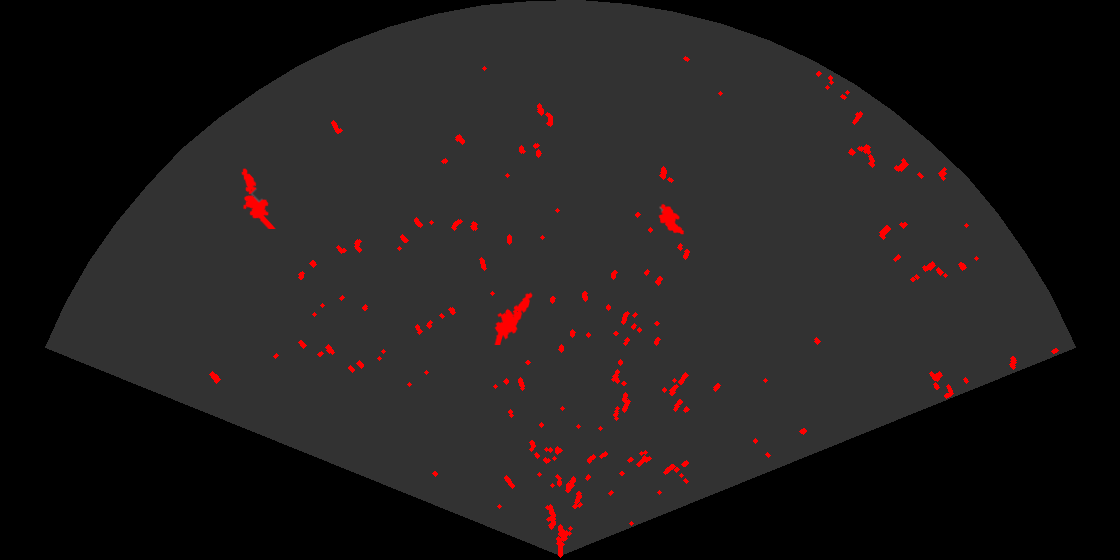AUV: (657, 202, 686, 236)
frogman: (240, 167, 277, 229), (493, 290, 534, 345)
